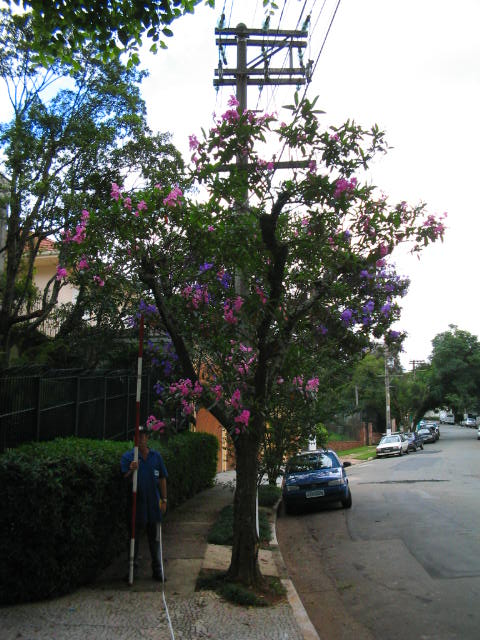crown: (56, 98, 444, 443)
stem: (213, 442, 279, 589)
stick: (125, 314, 147, 587)
tree: (54, 96, 447, 590)
